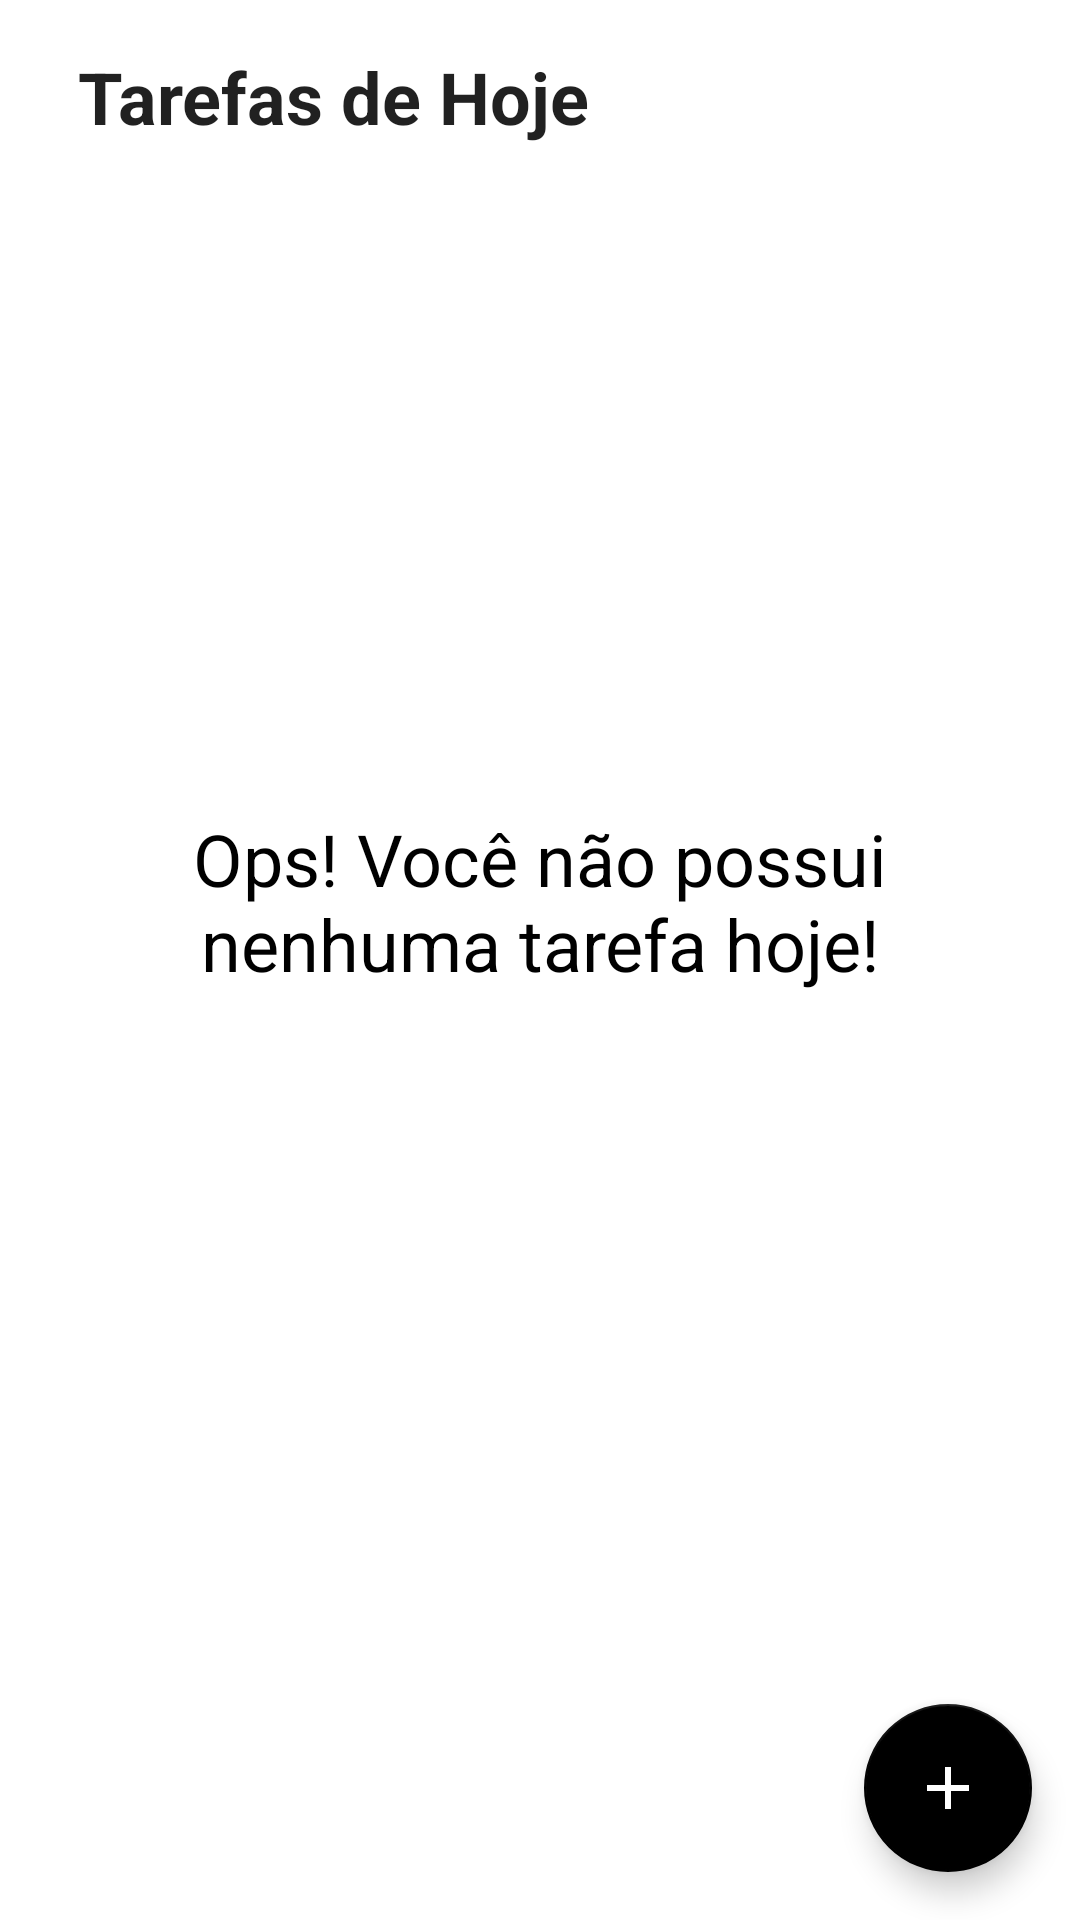

Screen size 1080px×1920px. Icon name, then its center in pixels as (x=x, y=y):
Nova tarefa: (x=948, y=1788)
